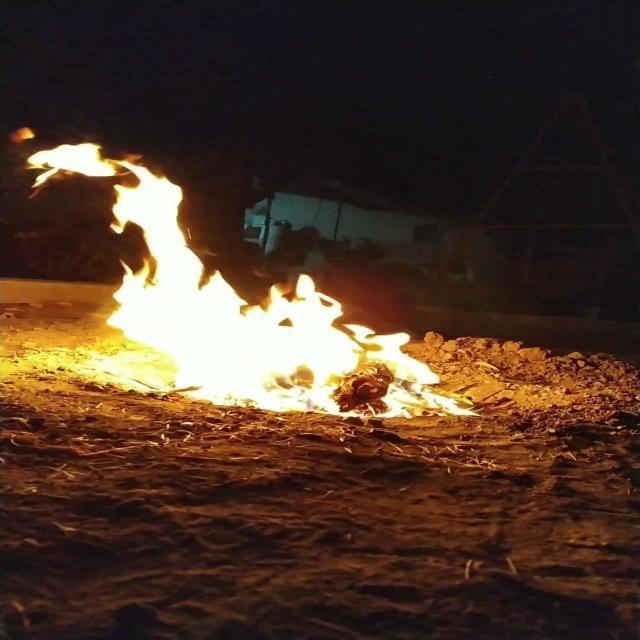Fire: (0, 131, 456, 413)
